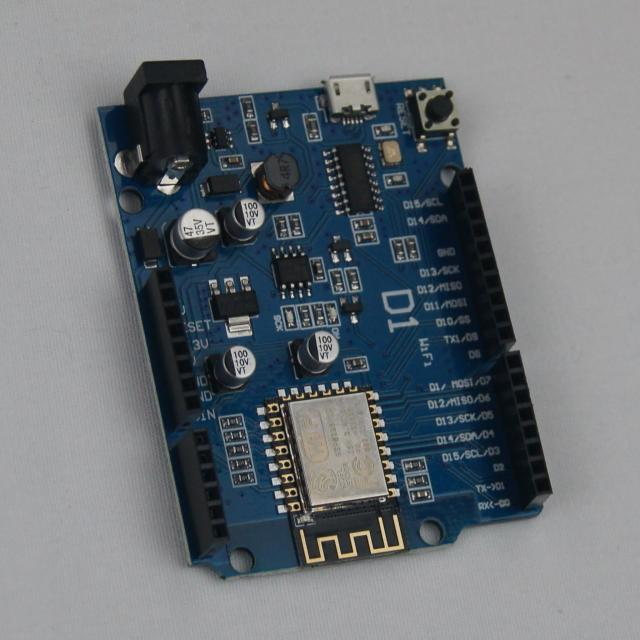Arduino Uno WiFi Shield: (99, 61, 552, 579)
